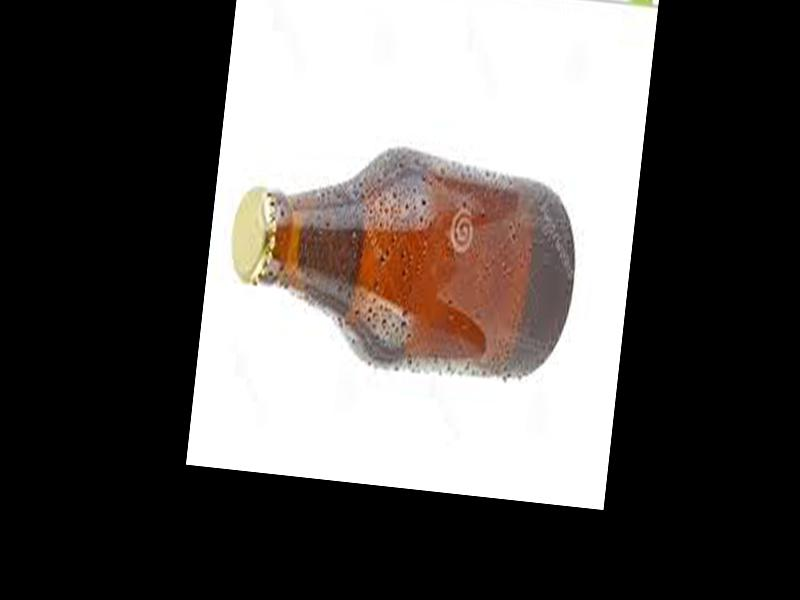Beer: (221, 132, 584, 388)
